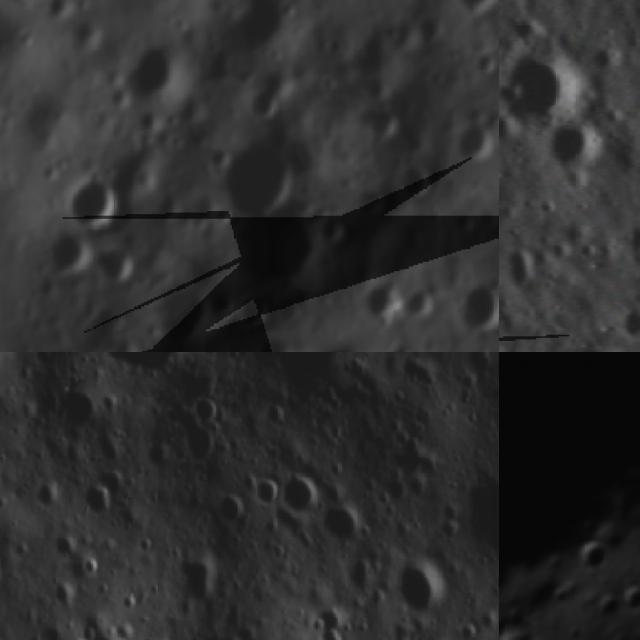crater: (499, 34, 588, 142), (0, 352, 202, 388), (445, 455, 499, 561), (383, 548, 452, 627), (535, 118, 608, 190), (56, 170, 122, 232), (233, 147, 305, 201), (315, 496, 374, 550), (124, 49, 195, 93), (41, 241, 95, 297), (499, 242, 545, 302), (270, 466, 322, 517), (84, 473, 112, 531), (587, 588, 627, 628), (461, 116, 499, 157), (370, 277, 412, 314), (470, 277, 499, 330), (573, 536, 611, 576), (613, 218, 640, 274), (242, 80, 280, 118), (396, 162, 429, 203), (614, 304, 640, 352), (499, 612, 541, 640), (110, 246, 137, 288), (252, 478, 284, 512), (317, 210, 343, 250), (240, 293, 268, 329), (623, 576, 640, 613), (548, 584, 574, 608), (629, 155, 640, 206), (458, 0, 499, 12), (474, 52, 496, 73), (638, 498, 640, 533)
